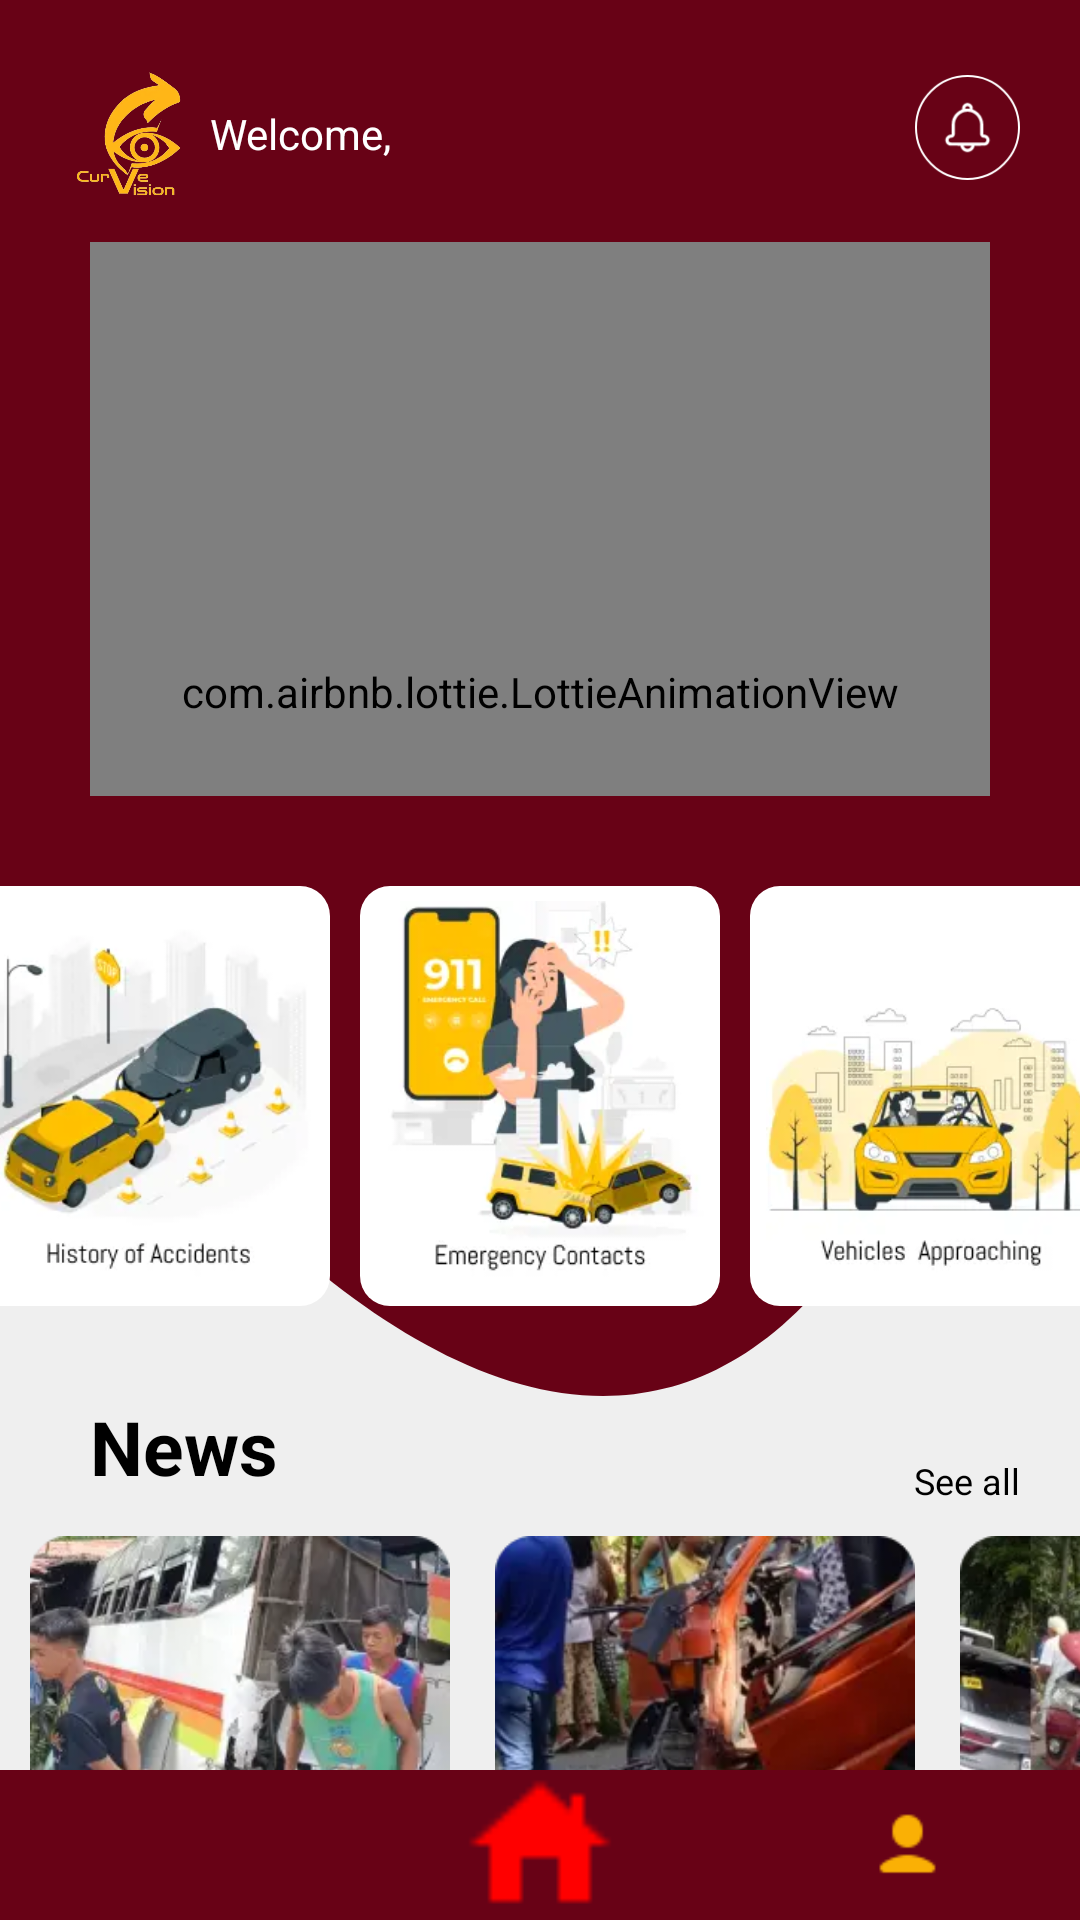

Named icons in this screenshot (1080 × 1920) and their bounding boxes, detection(x1, y1, x2, y2):
notification: detection(915, 75, 1020, 180)
prof: detection(879, 1814, 936, 1873)
redhome: detection(471, 1782, 610, 1903)
